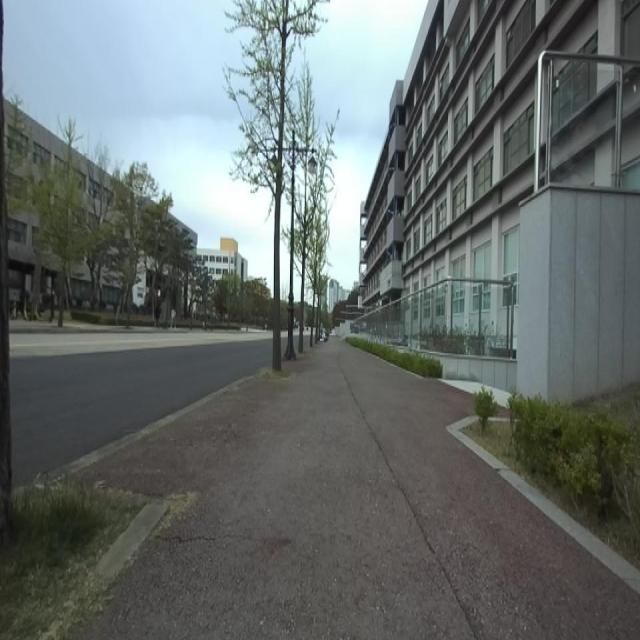sidewalk: (80, 338, 640, 639), (447, 416, 640, 594), (48, 376, 253, 479)
